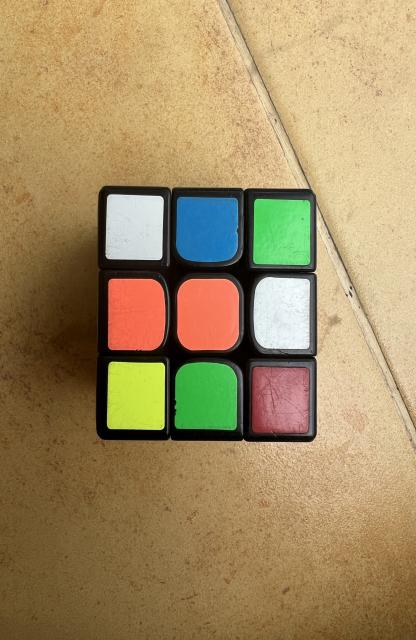Blue: (177, 196, 238, 262)
Green: (174, 362, 237, 430), (252, 199, 311, 265)
Orange: (178, 279, 239, 350), (108, 279, 166, 350)
Red: (251, 366, 309, 434)
White: (254, 276, 310, 349), (105, 194, 164, 260)
Yellow: (107, 361, 166, 430)
